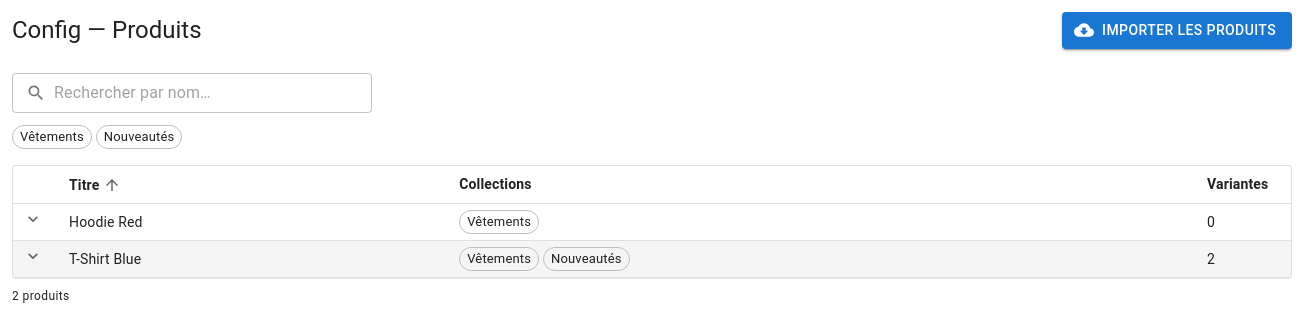
Test: ConfigProductsPage › filters products by collection chip
Click the button "Nouveautés". click: [139, 136]
box: [96, 124, 182, 148]
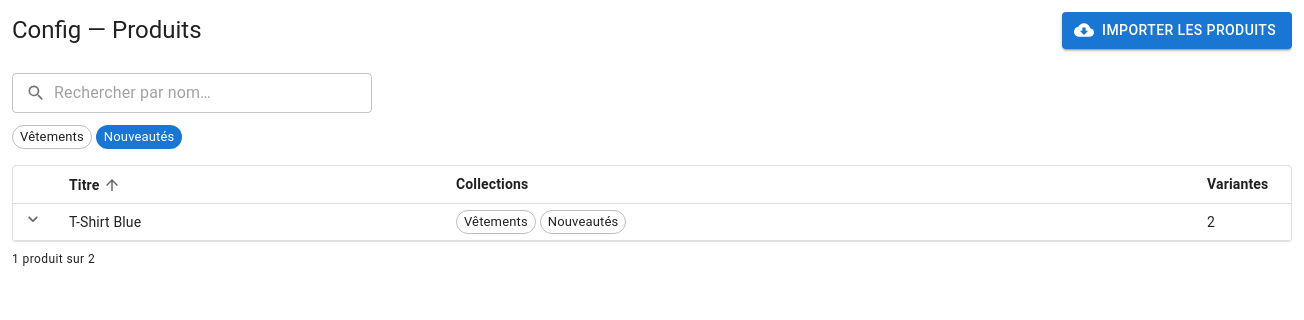
Expected: the text "T-Shirt Blue" is shown, [53, 203, 440, 240]
Now the text "Hoodie Red" is gone
